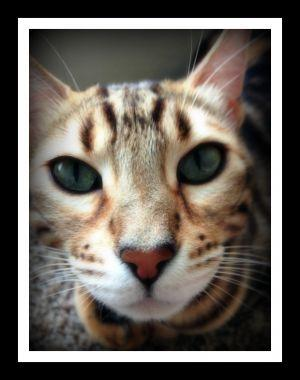bengal: (33, 29, 262, 323)
